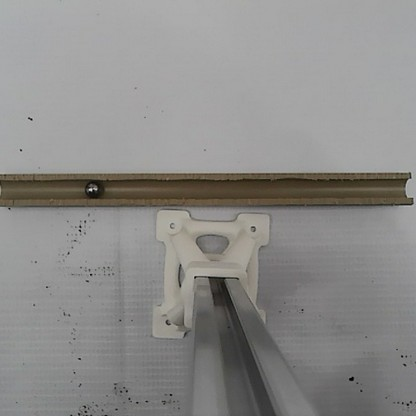ironball: (83, 180, 102, 199)
